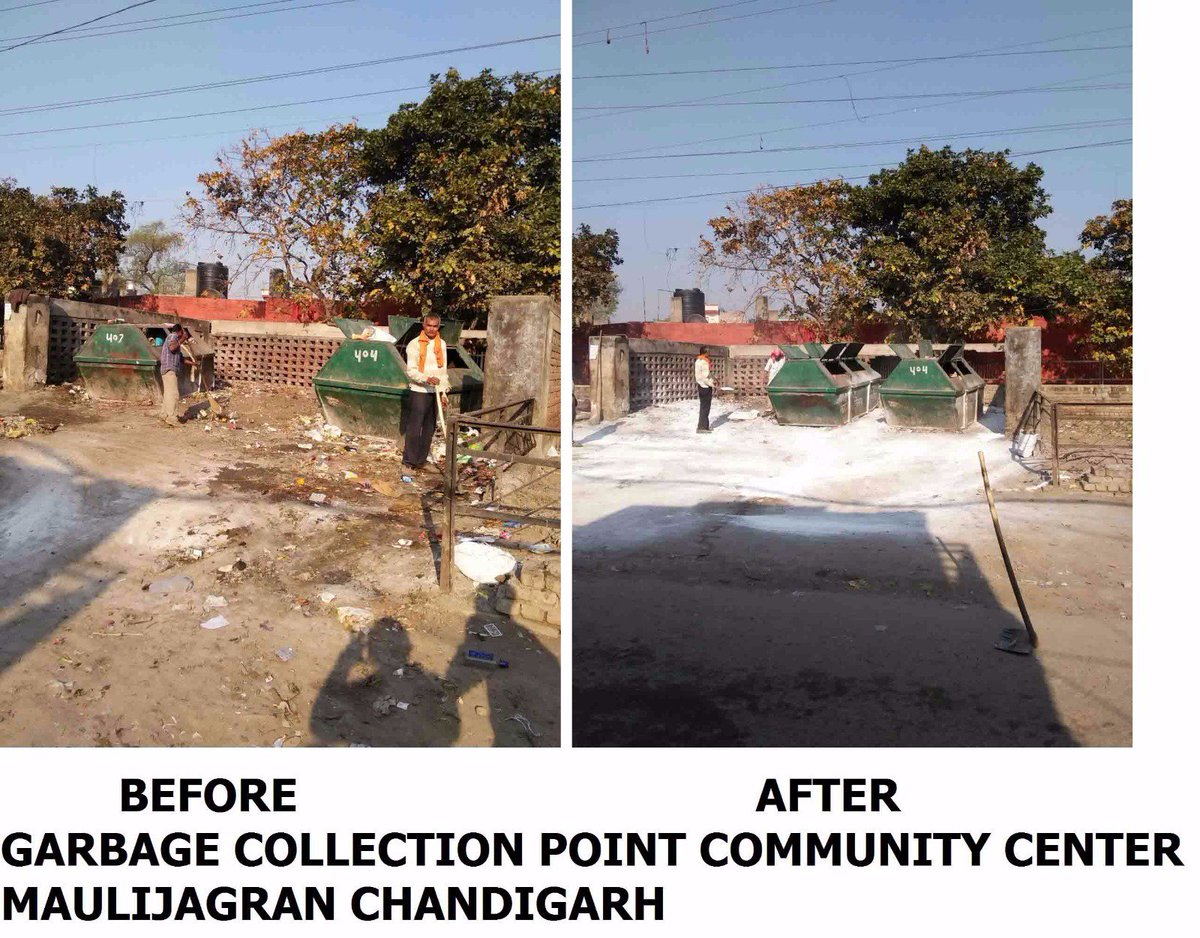BAD: (66, 288, 456, 529), (58, 295, 239, 430), (251, 391, 409, 519), (306, 308, 410, 470)
Good: (647, 316, 1045, 531), (575, 377, 1057, 513), (652, 379, 1028, 523), (752, 322, 1007, 520)
Household : General: (454, 531, 517, 599)
Household : Recyclable: (440, 628, 528, 679)
